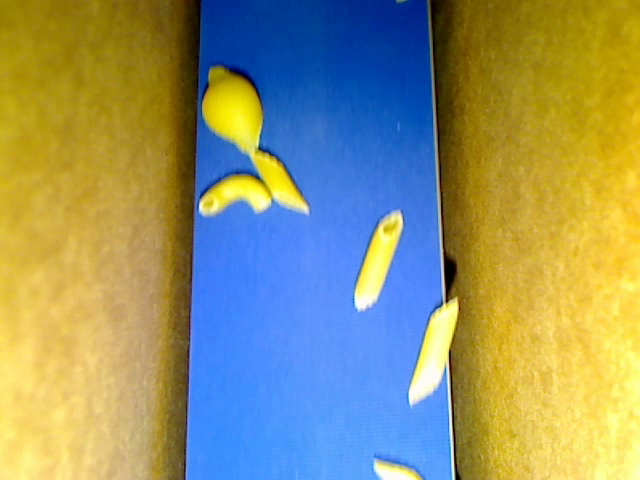elbow: (197, 173, 272, 215)
penne: (407, 297, 459, 409), (353, 210, 404, 311), (249, 151, 311, 214)
shell: (202, 66, 263, 153)
